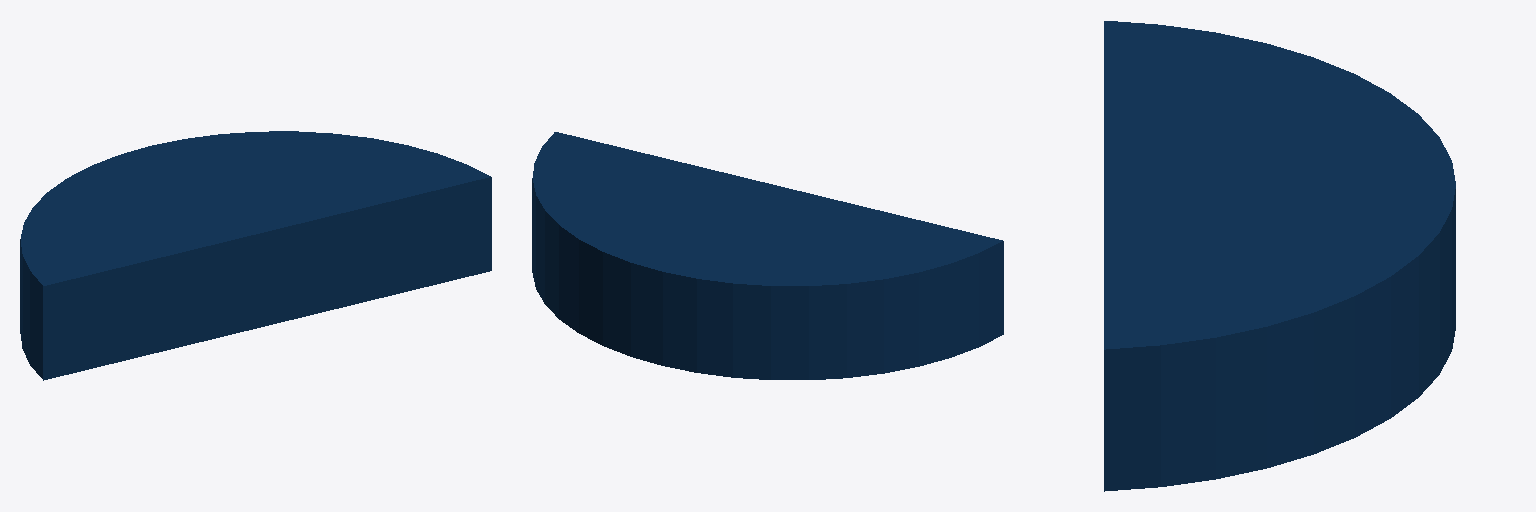
URDF robot description (screw):
<?xml version="1.0" ?>
<robot name="screw">
  <material name="Blue">
    <color rgba="0.93 0.23 0.16 1.0"/>
  </material>
  <material name="Orange">
    <color rgba="1.0 0.423529411765 0.0392156862745 1.0"/>
  </material>
  <material name="Red">
  <color rgba="0.094 0.239 0.384 1"/>  
</material>

    <link name="half2">
  <contact>
      <lateral_friction value="1"/>
  </contact>
    <inertial>
      <origin rpy="0 0 -1.57" xyz="0 0.5068 0."/>
       <mass value=".0"/>
       <inertia ixx=".1" ixy="0" ixz="0" iyy="0" iyz="0" izz="0"/>
    </inertial>
    <visual>
      <origin rpy="0 0 -1.57" xyz="0 0.5068 0"/>
      <geometry>
				<mesh filename="meshes/half_screw.stl" scale="1 1 1"/>
      </geometry>
       <material name="Red"/>
    </visual>
	
    <collision>
      <origin rpy="0 0 -1.57" xyz="0 0.5068 0"/>
      <geometry>
				<mesh filename="meshes/half_screw.stl" scale="1 1 1"/>
      </geometry>
       <material name="Red"/>
    </collision>
  </link>
  
  
  
</robot>

--- Render facts (derived) ---
The picture shows the robot from 3 angles, left to right: view 1: azimuth 30°, elevation 25°; view 2: azimuth 150°, elevation 25°; view 3: azimuth 270°, elevation 25°; orthographic projection.
Robot: screw — 1 links, 0 joints (none); root link half2; default pose: all joints at 0.
Links seen in each view (by area): view 1: half2; view 2: half2; view 3: half2.
Boxes of the visible links, <box> form: half2: <box>20,131,491,380</box>; half2: <box>532,132,1003,379</box>; half2: <box>1104,21,1455,491</box>.
Bounding box of the posed robot: 0.0199 × 0.009 × 0.004 m (x, y, z).
Meshes: 1 distinct files referenced, 1 mesh visuals loaded (1 binary STL).